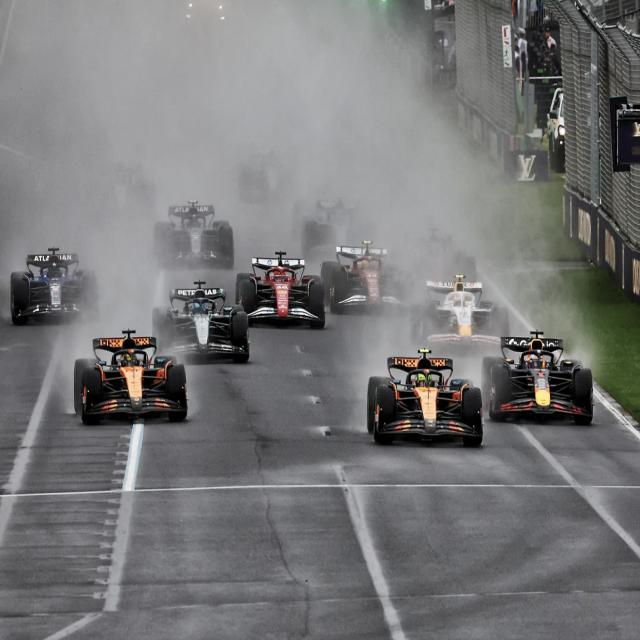Ferrari: (237, 250, 325, 333), (323, 239, 415, 318)
McLaren: (368, 348, 483, 448), (75, 330, 188, 425)
Mercedes: (152, 280, 249, 368)
Racing Bulls: (414, 274, 509, 355)
Red Bull: (484, 330, 594, 427)
Williams: (11, 245, 98, 327), (154, 198, 234, 270)
